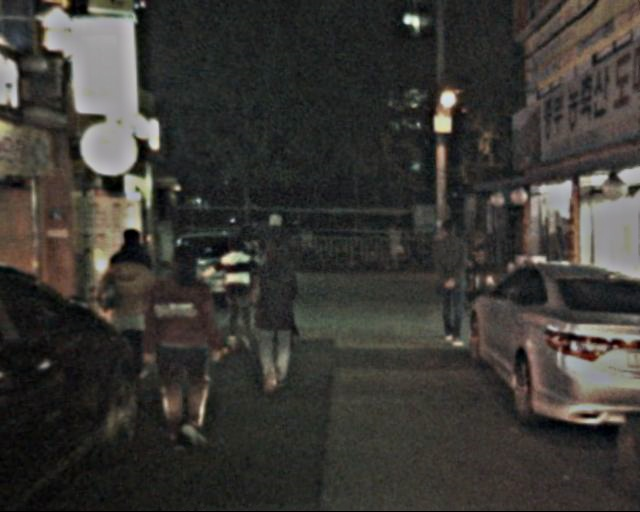person: (147, 244, 231, 446), (243, 235, 307, 399), (108, 236, 167, 380), (427, 220, 478, 345), (215, 231, 264, 345), (252, 206, 296, 313)
